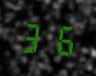six: (47, 19, 74, 57)
three: (19, 18, 46, 55)
